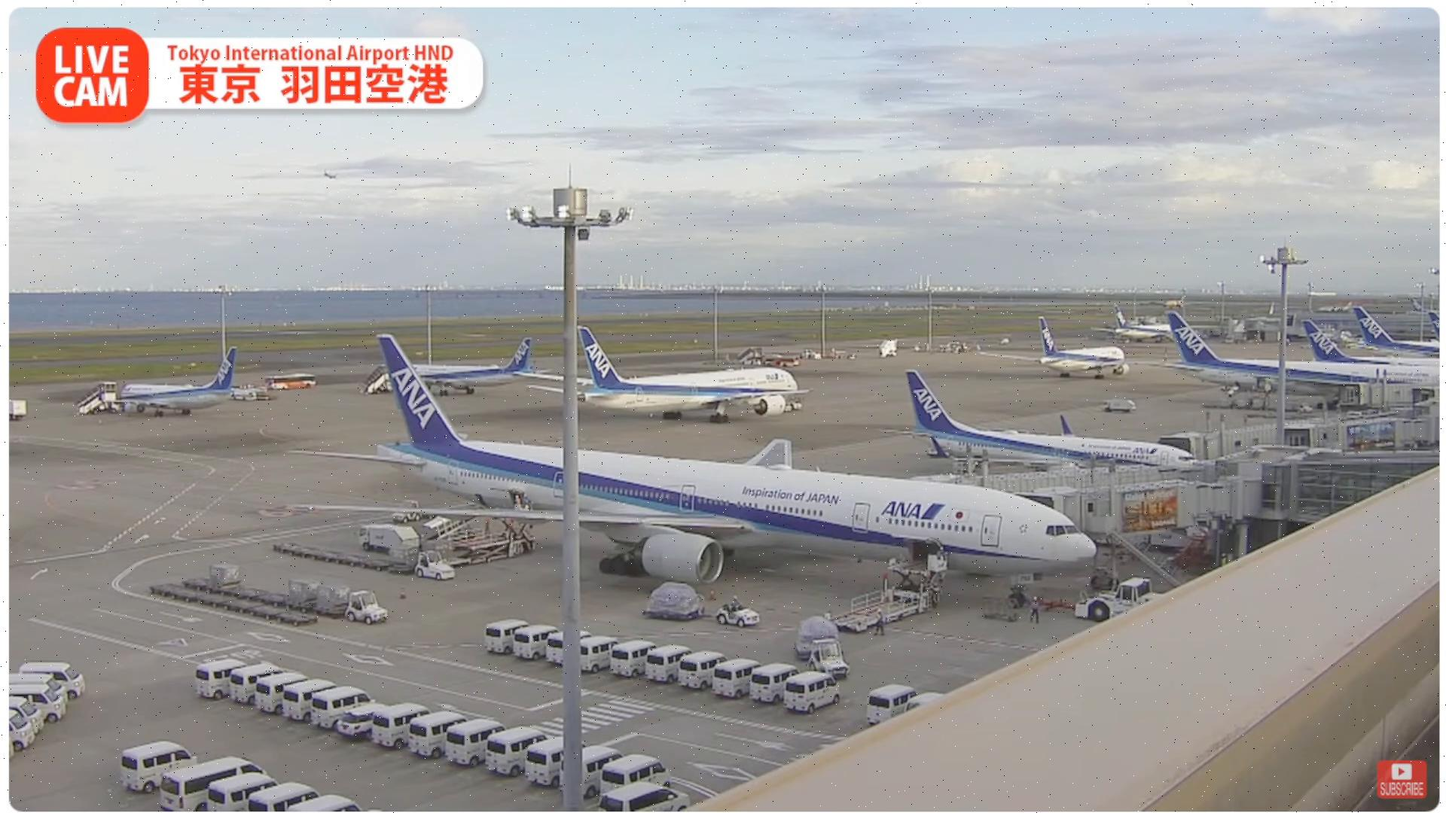APS: (1073, 579, 1171, 624)
Aerobridge: (937, 438, 1217, 490), (1025, 480, 1229, 535)
Airplane: (279, 328, 1098, 610)
Baggage truck: (356, 523, 420, 558)
Dolly: (149, 583, 318, 630), (188, 575, 352, 615), (269, 541, 413, 576), (639, 608, 718, 619), (790, 633, 809, 663)
JCPL: (825, 565, 937, 632), (442, 511, 533, 564)
Skyloader: (417, 513, 486, 554)
Tractor: (806, 638, 852, 683), (348, 590, 393, 626), (715, 595, 761, 630), (414, 550, 455, 581)
Window: (1286, 455, 1435, 523)
